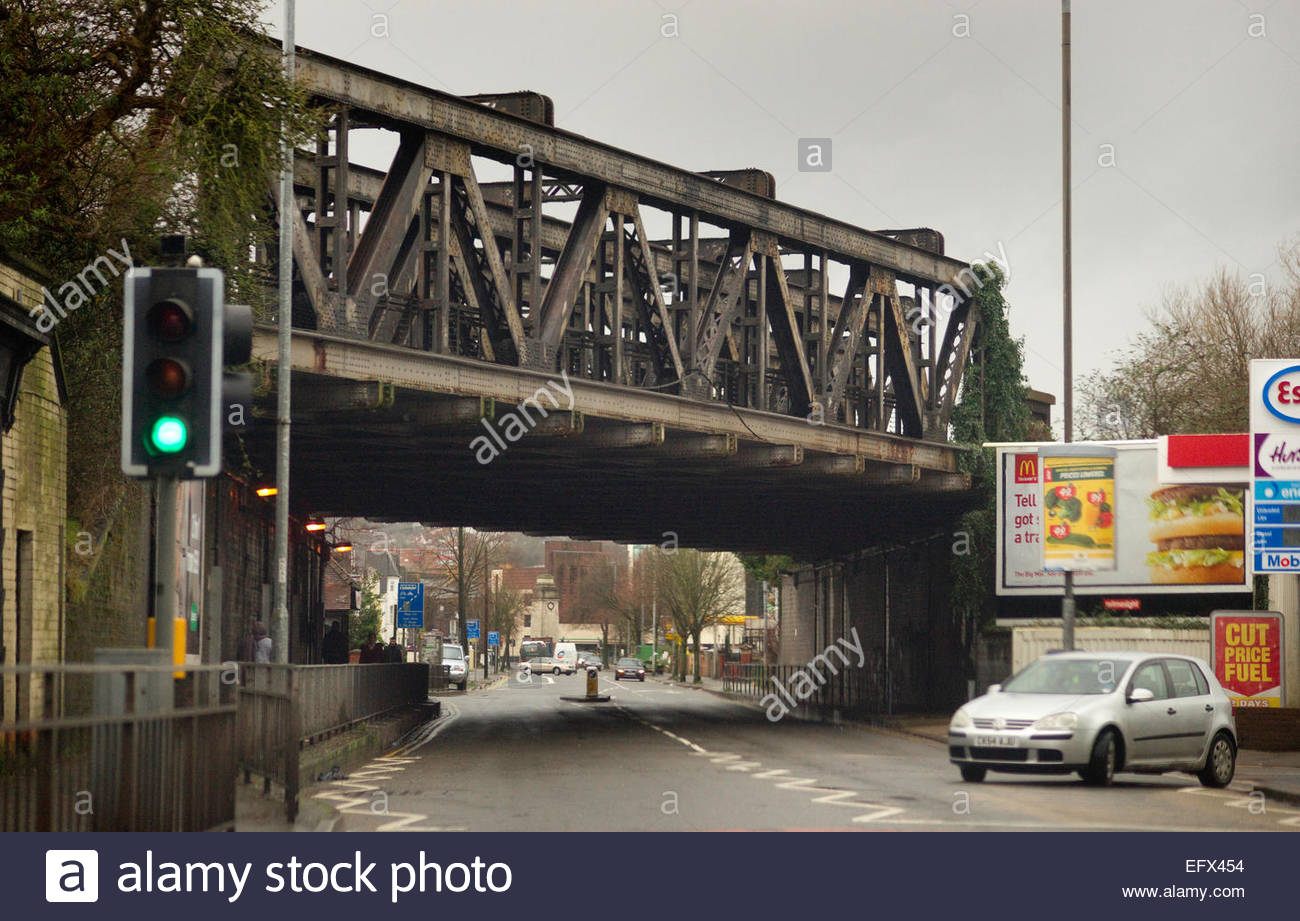bridge: (179, 10, 1030, 568)
